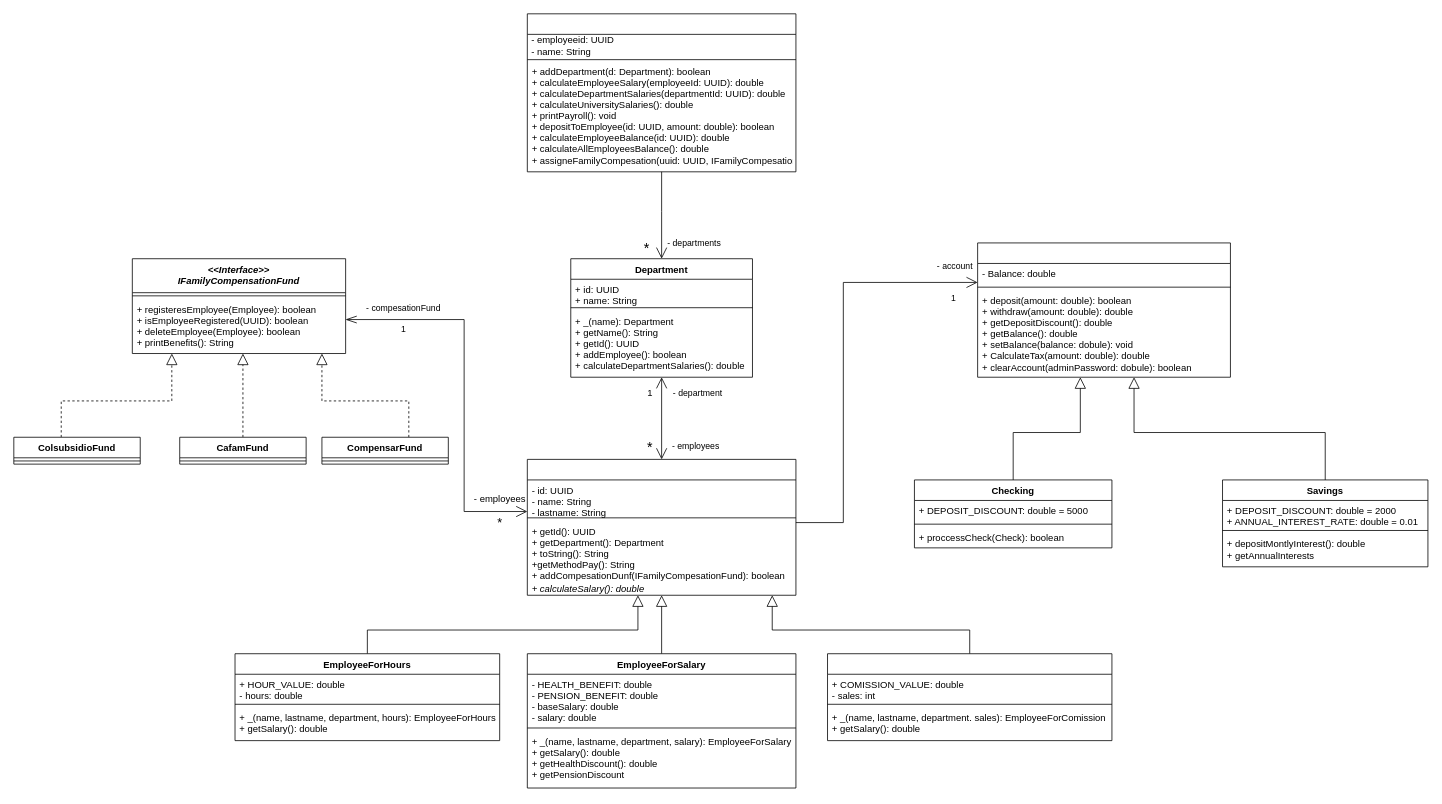
Image size: 1442x804. Some labels were removed from this diagram. Here are the shapes that lost their labels. From the top down, the box of each, then its label:
(527, 13, 796, 172): SabanaPayroll
(977, 242, 1230, 377): BankAccount
(527, 459, 796, 595): Employee
(827, 653, 1112, 741): EmpoyeeForComission
